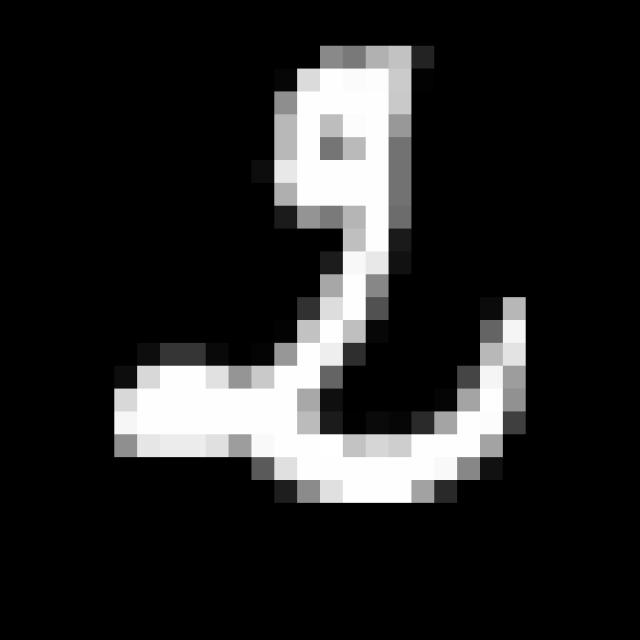two -2-: (98, 25, 567, 513)
